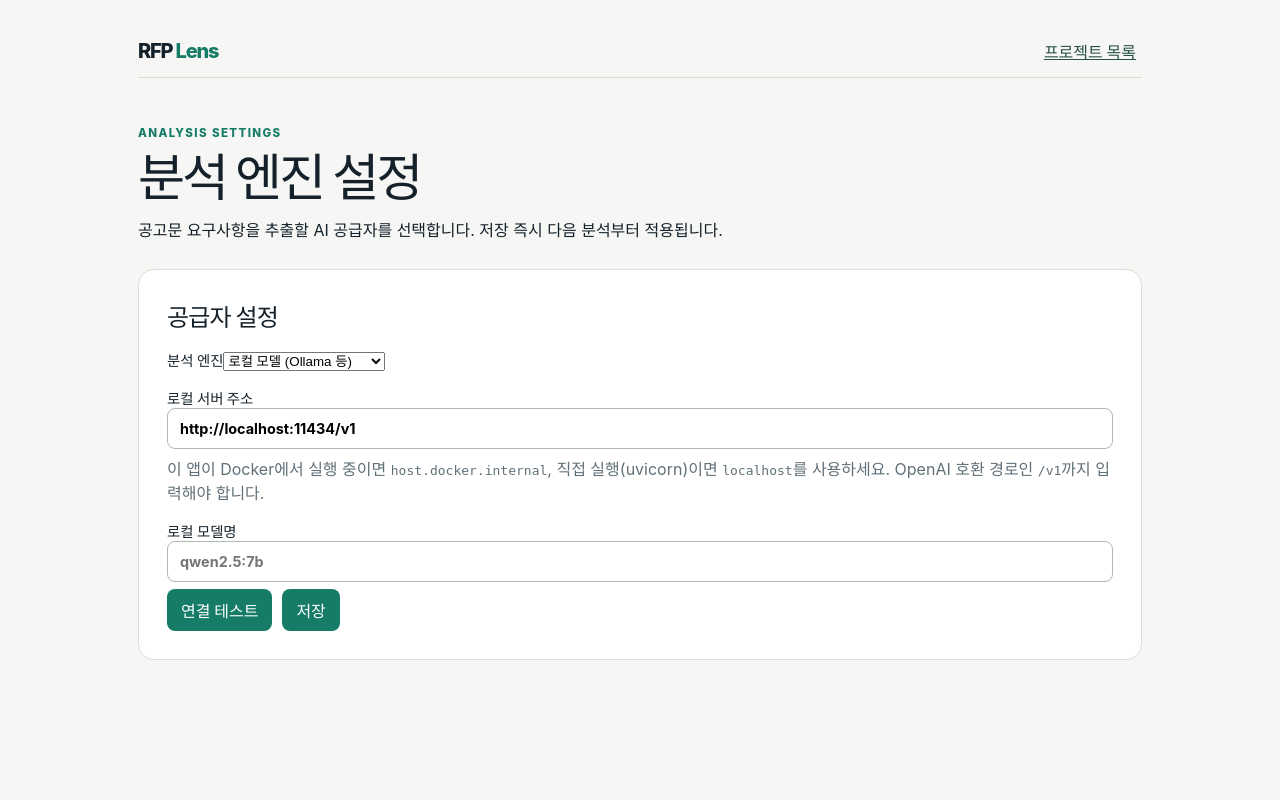
Test case: analysis settings page › surfaces model errors from the connection test
The width and height of the screenshot is (1280, 800).
Expected: the dropdown labelled "분석 엔진" shows "로컬 모델 (Ollama 등)", [223,352,385,371]
Type "missing-model" into the field labelled "로컬 모델명".
click(640, 562); type("missing-model")  # box [167,541,1113,582]
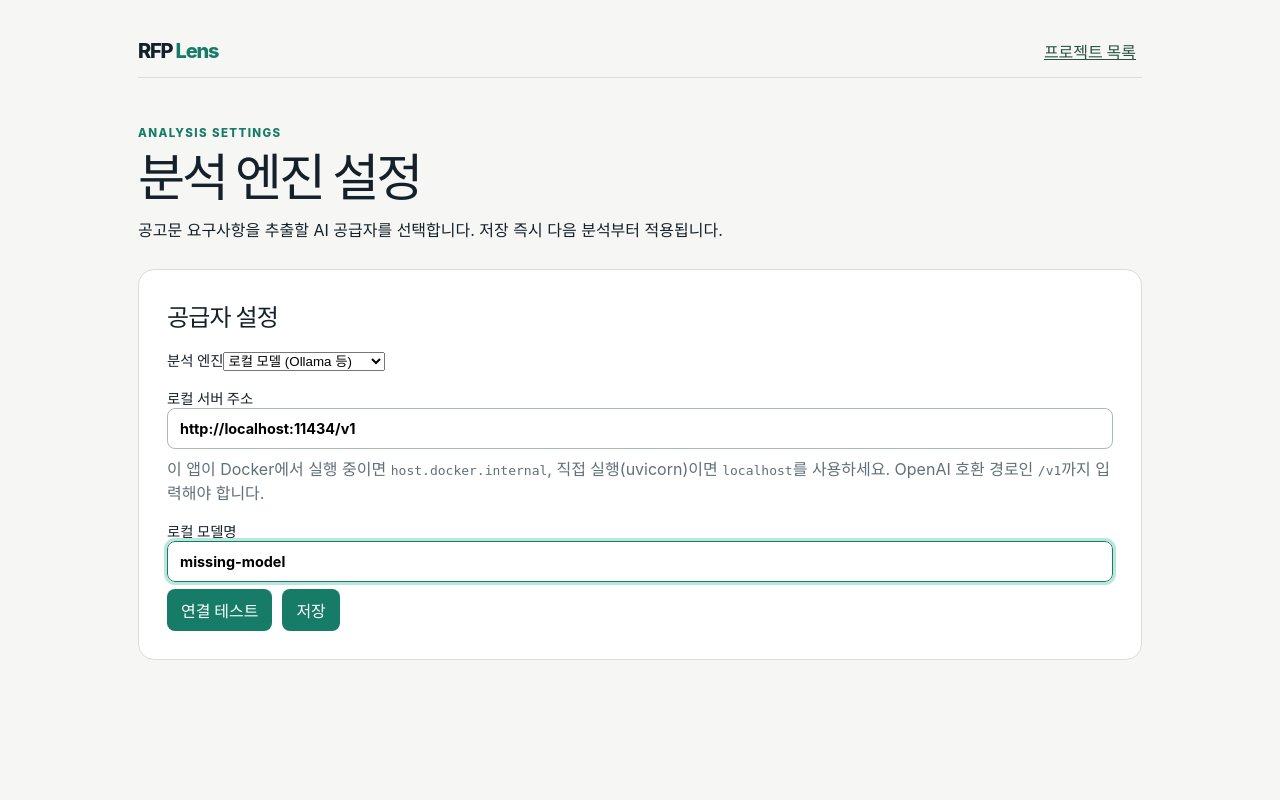
Click the button "연결 테스트".
click(220, 610)  # box [167,589,272,631]
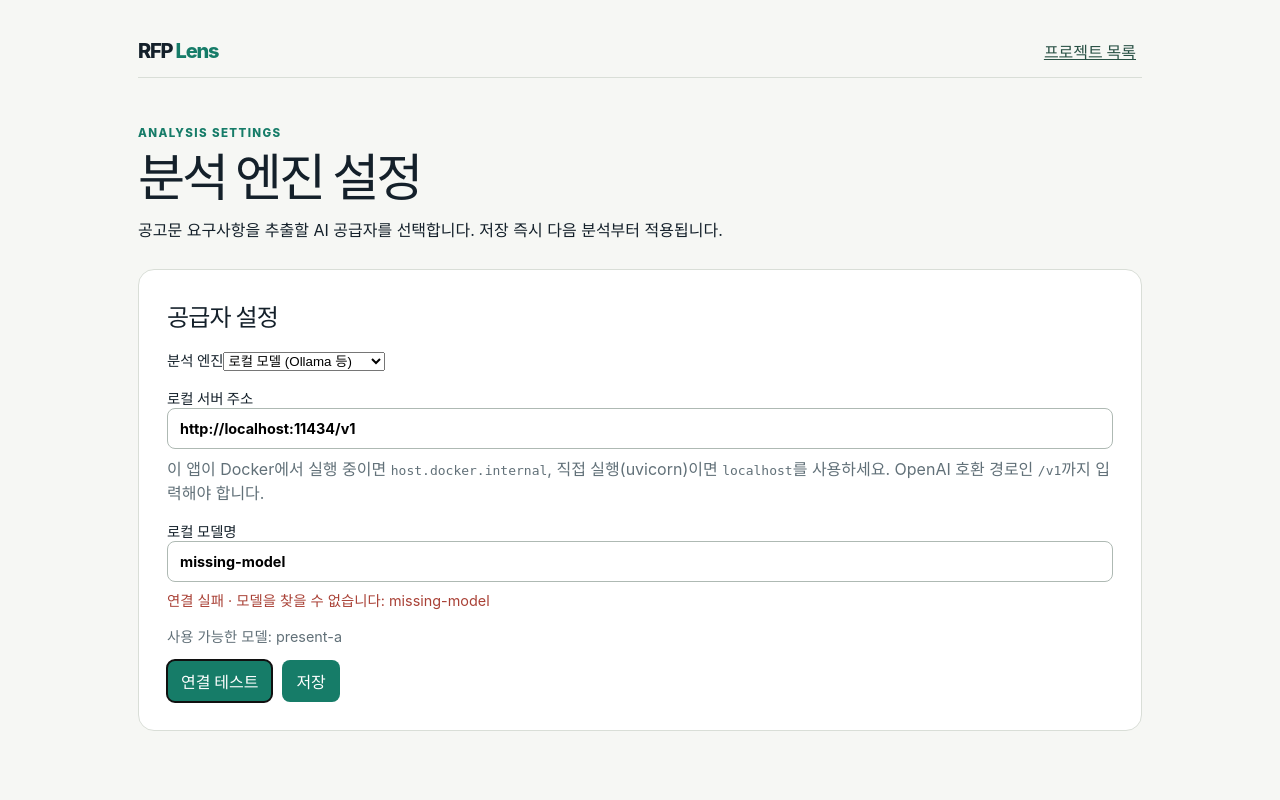
Result: the message shows "모델을 찾을 수 없습니다" at [236,592,490,609]
Result: the message shows "present-a" at [276,628,342,645]
